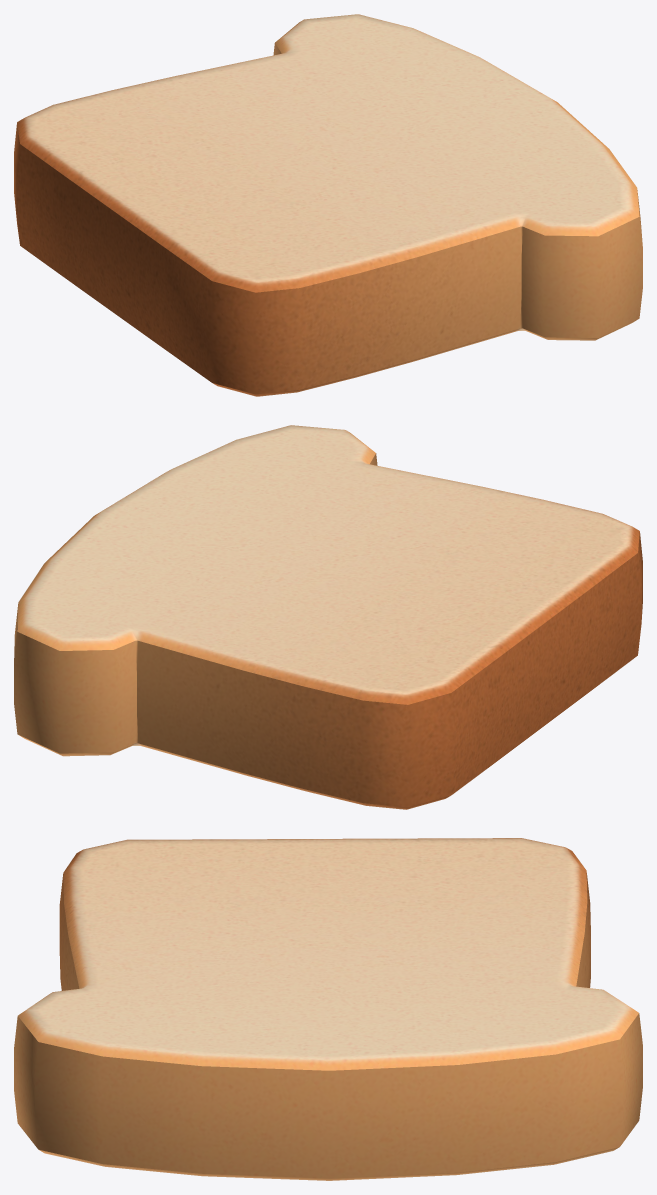
File: Bread.fbx
3 renders of one model, top to bottom at view 1: azimuth 30°, elevation 25°; view 2: azimuth 150°, elevation 25°; view 3: azimuth 270°, elevation 25°, orthographic. The views are drawn at different scales.
Parts seen in each view (by area): view 1: Bread_1; view 2: Bread_1; view 3: Bread_1.
Boxes of the visible parts, x1,y1,x2,y2 form: Bread_1: (14, 14, 642, 396); Bread_1: (14, 425, 642, 809); Bread_1: (14, 838, 642, 1180).
Bounding box in the file's own units: 50.65 × 12.14 × 57.7.
